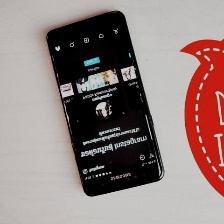phone: (43, 7, 166, 199)
